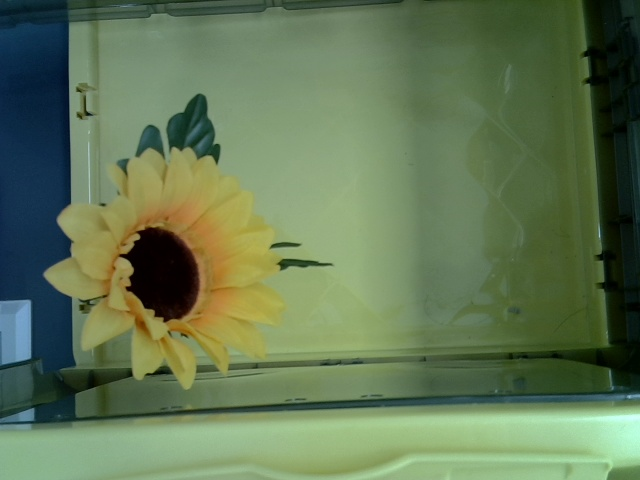해바라기: (40, 145, 287, 389)
